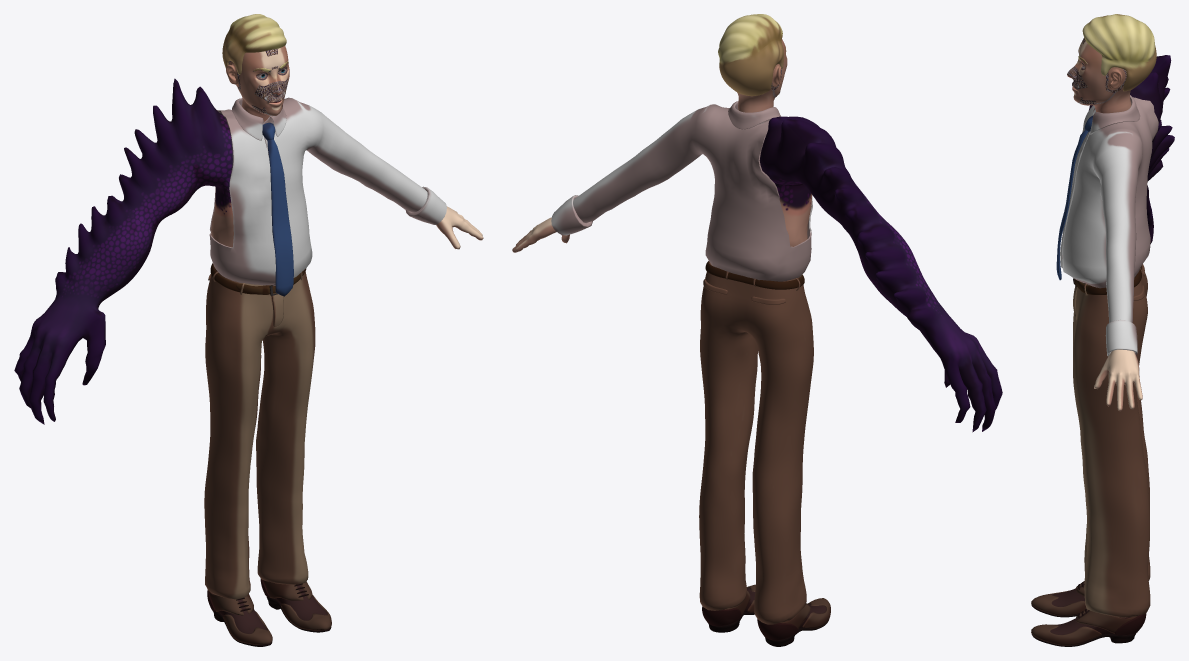
The model's file is leonard_101422.fbx.
The picture shows the model from 3 angles, left to right: view 1: azimuth 30°, elevation 25°; view 2: azimuth 150°, elevation 25°; view 3: azimuth 270°, elevation 25°; orthographic projection. The views are drawn at different scales.
Parts seen in each view (by area): view 1: pants_LP, demon_arm_GEO, shirt_LP, head_GEO, tie_GEO, hair_GEO, shoe_decor_3_LP (×2), collar_LP, hand_GEO, shirt_cuff_LP, shoe_LP; view 2: pants_LP, demon_arm_GEO, shirt_LP, hair_GEO, head_GEO, shirt_cuff_LP, belt_1_LP, collar_LP; view 3: pants_LP, shirt_LP, hair_GEO, head_GEO, demon_arm_GEO, hand_GEO, shoe_decor_3_LP (×2), shirt_cuff_LP, shoe_LP (×2), collar_LP, shoe_decor_1_LP, tie_GEO (+4 smaller).
Part boxes in pixels (left/top/right/bottom): pants_LP: left=204, top=267, right=315, bottom=599; demon_arm_GEO: left=14, top=78, right=233, bottom=424; shirt_LP: left=209, top=97, right=427, bottom=285; head_GEO: left=226, top=46, right=289, bottom=121; tie_GEO: left=267, top=139, right=293, bottom=296; hair_GEO: left=222, top=14, right=286, bottom=74; shoe_decor_3_LP (×2): left=222, top=594, right=331, bottom=644; collar_LP: left=232, top=98, right=286, bottom=140; hand_GEO: left=436, top=206, right=483, bottom=249; shirt_cuff_LP: left=405, top=186, right=446, bottom=224; shoe_LP: left=275, top=585, right=327, bottom=630; pants_LP: left=699, top=262, right=813, bottom=624; demon_arm_GEO: left=759, top=116, right=1002, bottom=432; shirt_LP: left=573, top=104, right=812, bottom=281; hair_GEO: left=718, top=14, right=783, bottom=96; head_GEO: left=737, top=39, right=787, bottom=112; shirt_cuff_LP: left=551, top=195, right=592, bottom=235; belt_1_LP: left=705, top=261, right=804, bottom=289; collar_LP: left=728, top=101, right=780, bottom=129; pants_LP: left=1073, top=265, right=1150, bottom=617; shirt_LP: left=1062, top=97, right=1158, bottom=322; hair_GEO: left=1082, top=14, right=1156, bottom=91; head_GEO: left=1067, top=37, right=1131, bottom=113; demon_arm_GEO: left=1088, top=55, right=1174, bottom=244; hand_GEO: left=1094, top=349, right=1142, bottom=411; shoe_decor_3_LP (×2): left=1031, top=590, right=1101, bottom=645; shirt_cuff_LP: left=1105, top=320, right=1137, bottom=356; shoe_LP (×2): left=1050, top=584, right=1130, bottom=634; collar_LP: left=1090, top=95, right=1140, bottom=134; shoe_decor_1_LP: left=1076, top=609, right=1136, bottom=633; tie_GEO: left=1056, top=130, right=1088, bottom=280.
Bounding box in the file's own units: 35.9 × 44.5 × 9.52.
